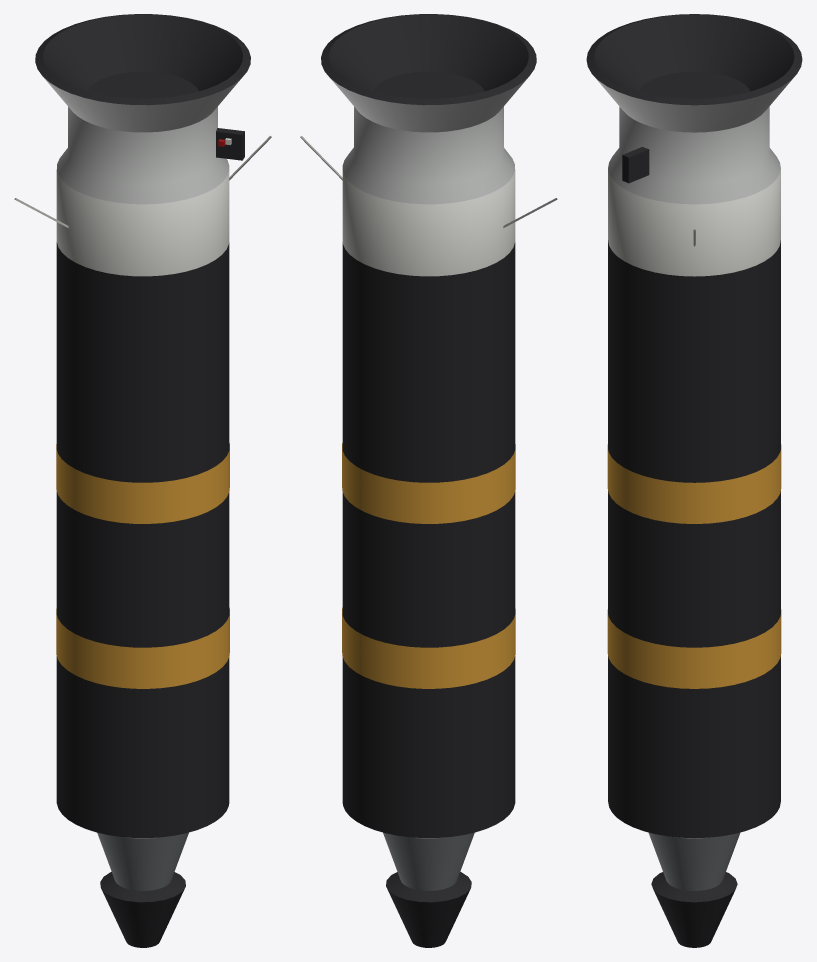
Rendered from agena.glb.
3 views of the same model, side by side, from view 1: azimuth 30°, elevation 25°; view 2: azimuth 150°, elevation 25°; view 3: azimuth 270°, elevation 25° (orthographic).
Visible parts, largest first — view 1: model; view 2: model; view 3: model.
Boxes of the visible parts, bbox=[...] form: model: bbox=[14, 14, 271, 947]; model: bbox=[300, 14, 557, 947]; model: bbox=[586, 14, 802, 947].
Bounding box in the file's own units: 2.61 × 8.58 × 1.9.
Materials: 1 (1 with a texture image).
